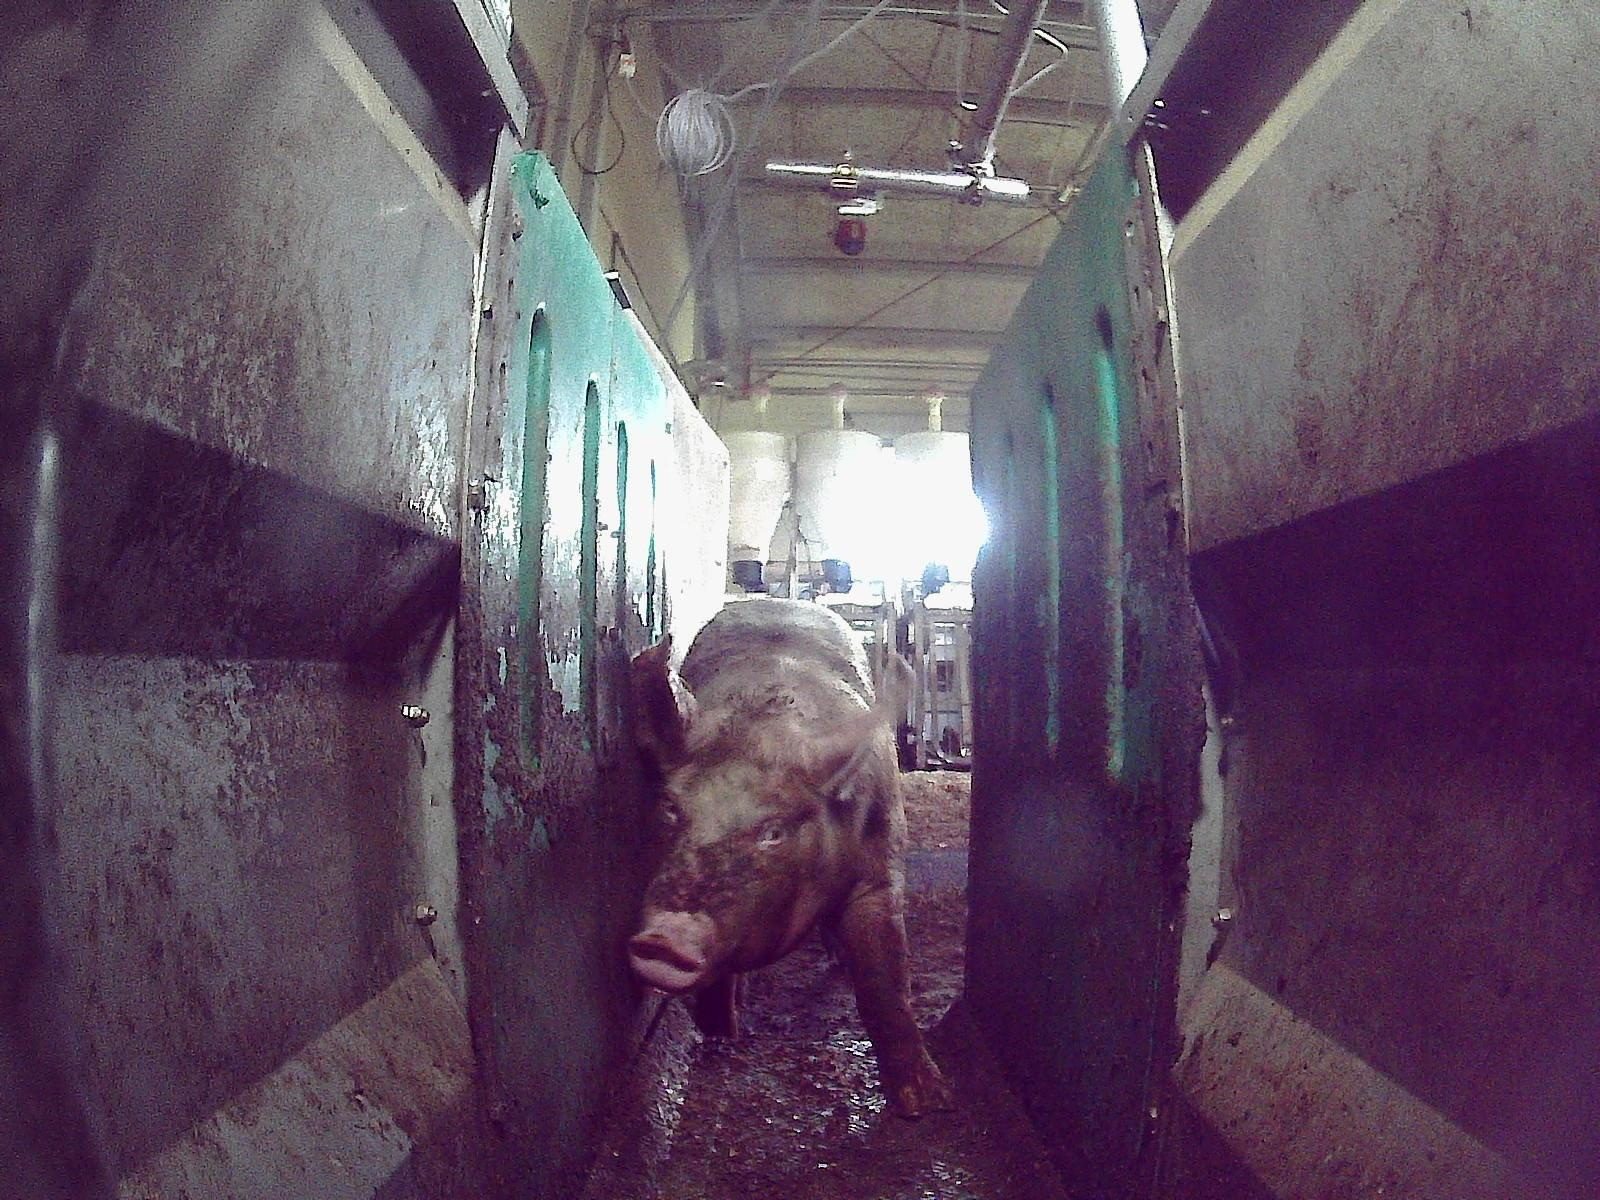Face: (618, 716, 846, 993)
